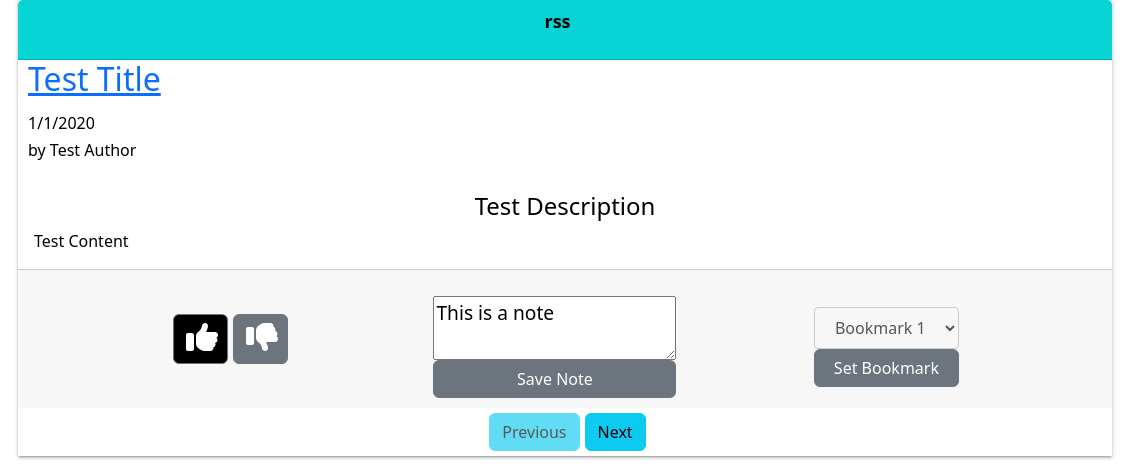
Test: move back and forth between messages in list.
Click the button "Next".
click(615, 432)  # box left=584, top=413, right=646, bottom=451
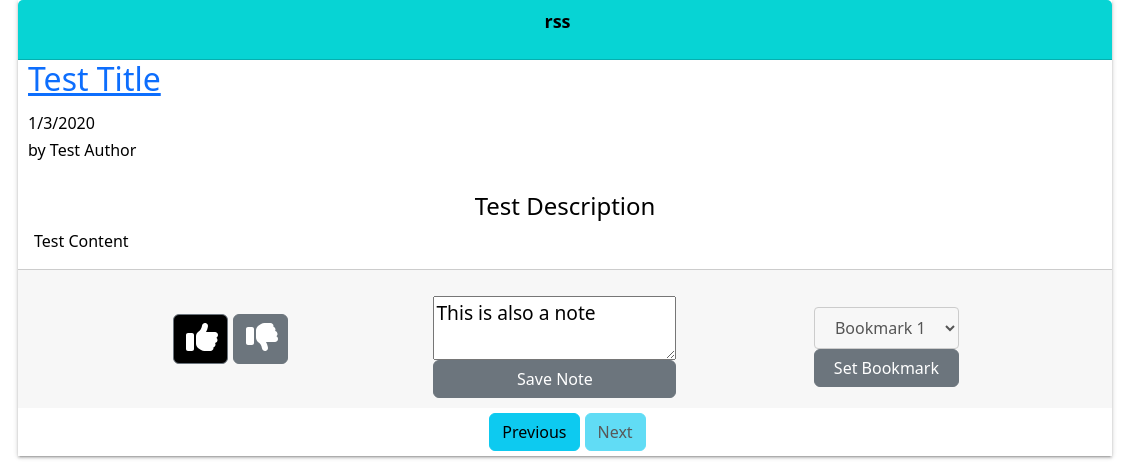
Now the text box "This is also a note" is shown, box left=433, top=296, right=676, bottom=360
